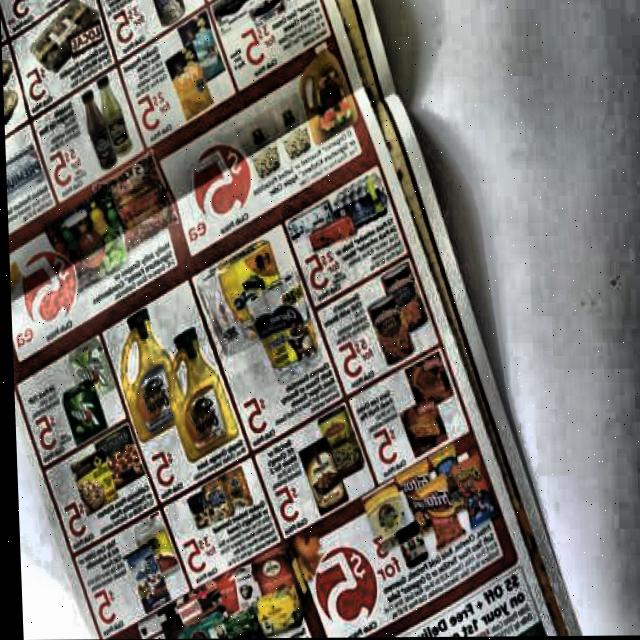paper: (0, 0, 568, 639)
